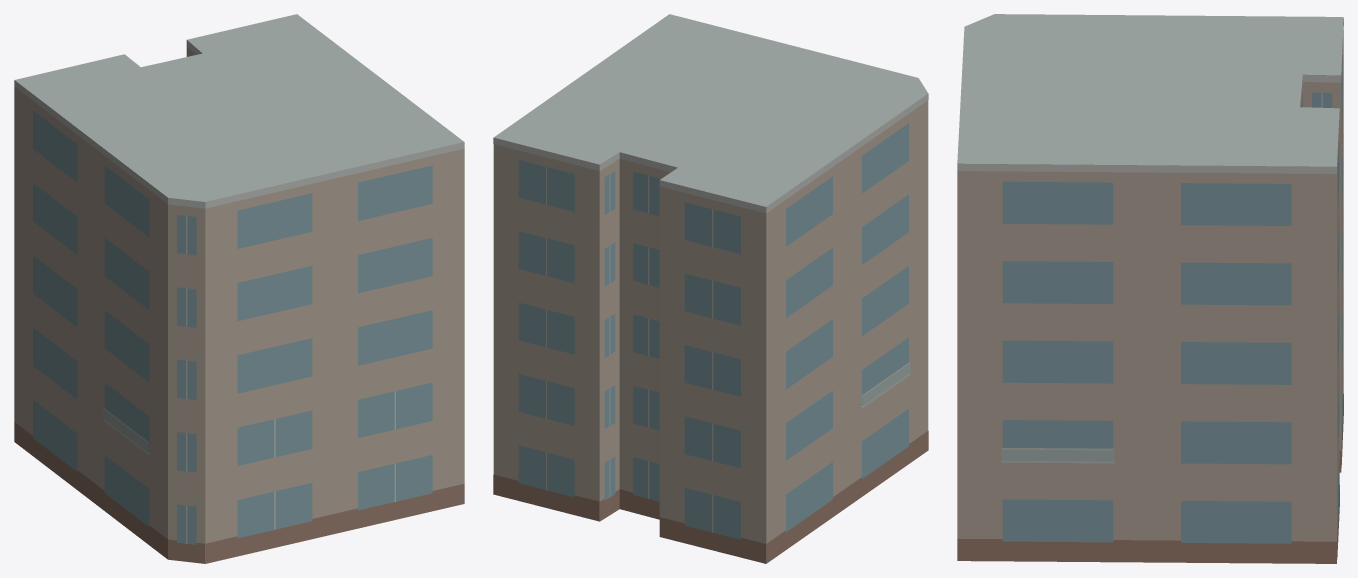
The model's file is survey-upis-32866347.glb.
The picture shows the model from 3 angles, left to right: view 1: azimuth 30°, elevation 25°; view 2: azimuth 150°, elevation 25°; view 3: azimuth 270°, elevation 25°; orthographic projection. The views are drawn at different scales.
Parts seen in each view (by area): view 1: survey-upis-32866347.tmp; view 2: survey-upis-32866347.tmp; view 3: survey-upis-32866347.tmp.
Boxes of the visible parts, x1,y1,x2,y2 form: survey-upis-32866347.tmp: (14,14,464,563); survey-upis-32866347.tmp: (493,14,928,563); survey-upis-32866347.tmp: (957,14,1343,563).
Size of the model in its own units: 11.06 by 13.4 by 11.83.
